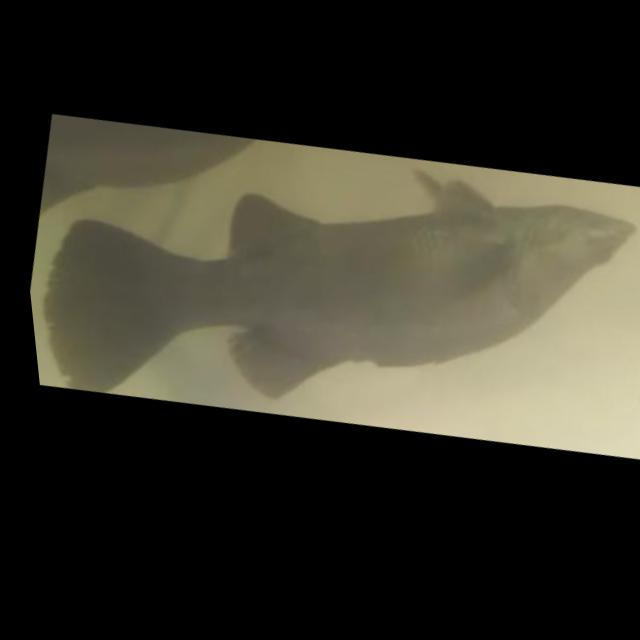Seabass: (14, 67, 640, 513)
